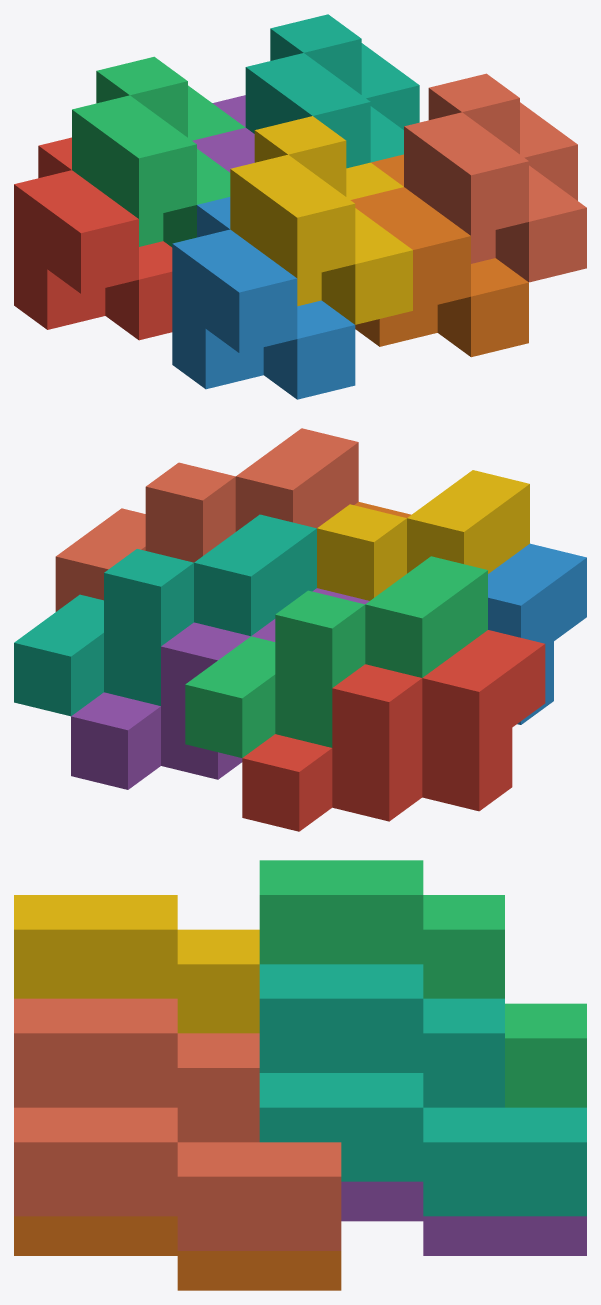
The model's file is tiling.obj.
3 renders of one model, top to bottom at view 1: azimuth 30°, elevation 25°; view 2: azimuth 150°, elevation 25°; view 3: azimuth 270°, elevation 25°, orthographic. The views are drawn at different scales.
Parts seen in each view (by area): view 1: copy_1_domain_8, copy_1_domain_4, copy_1_domain_2, copy_1_domain_1, copy_1_domain_3, copy_1_domain_7, copy_1_domain_6, copy_1_domain_5; view 2: copy_1_domain_1, copy_1_domain_3, copy_1_domain_7, copy_1_domain_8, copy_1_domain_4, copy_1_domain_5, copy_1_domain_2; view 3: copy_1_domain_8, copy_1_domain_7, copy_1_domain_3, copy_1_domain_4, copy_1_domain_6, copy_1_domain_5.
Boxes of the visible parts, left/top/right/bottom form: copy_1_domain_8: left=404, top=73, right=586, bottom=282; copy_1_domain_4: left=230, top=116, right=412, bottom=324; copy_1_domain_2: left=172, top=197, right=355, bottom=399; copy_1_domain_1: left=14, top=137, right=172, bottom=340; copy_1_domain_3: left=72, top=56, right=245, bottom=247; copy_1_domain_7: left=245, top=14, right=419, bottom=168; copy_1_domain_6: left=350, top=154, right=528, bottom=357; copy_1_domain_5: left=192, top=95, right=254, bottom=172; copy_1_domain_1: left=242, top=630, right=545, bottom=831; copy_1_domain_3: left=185, top=556, right=487, bottom=757; copy_1_domain_7: left=14, top=514, right=316, bottom=716; copy_1_domain_8: left=55, top=428, right=358, bottom=611; copy_1_domain_4: left=317, top=470, right=529, bottom=600; copy_1_domain_5: left=71, top=588, right=369, bottom=789; copy_1_domain_2: left=488, top=543, right=586, bottom=724; copy_1_domain_8: left=14, top=998, right=341, bottom=1250; copy_1_domain_7: left=259, top=964, right=586, bottom=1216; copy_1_domain_3: left=259, top=860, right=586, bottom=1107; copy_1_domain_4: left=14, top=895, right=259, bottom=1033; copy_1_domain_6: left=14, top=1216, right=341, bottom=1290; copy_1_domain_5: left=341, top=1181, right=586, bottom=1255.
Size of the model in its own units: 8 by 3 by 7.
